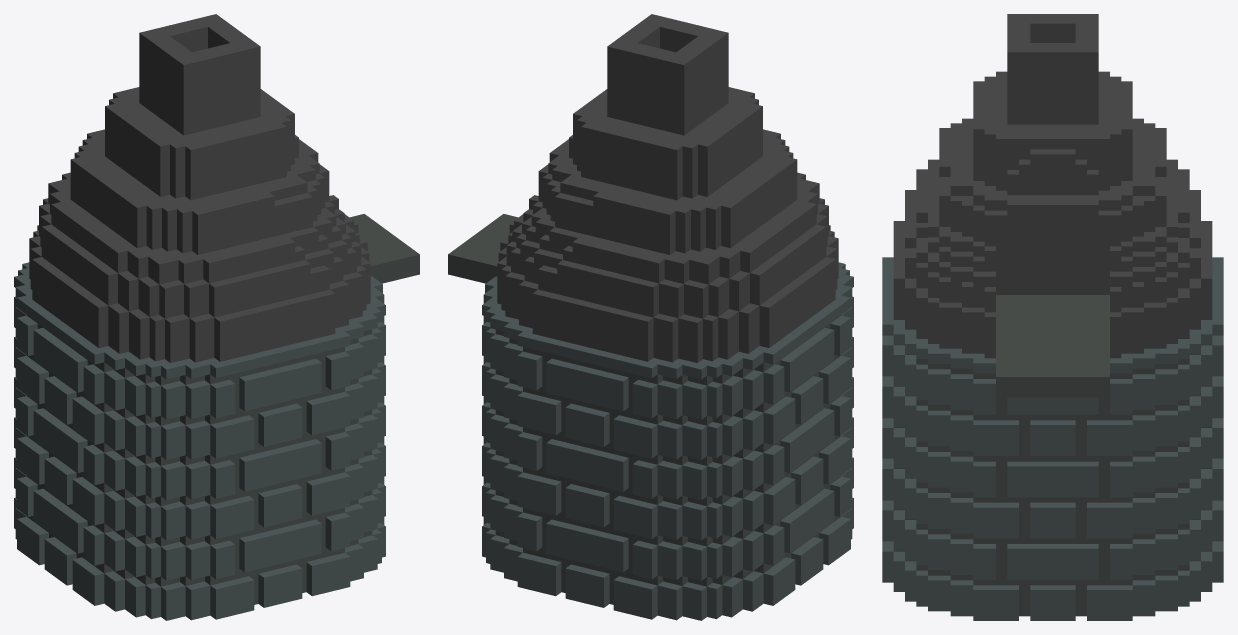
The model's file is Furnace.fbx.
The picture shows the model from 3 angles, left to right: view 1: azimuth 30°, elevation 25°; view 2: azimuth 150°, elevation 25°; view 3: azimuth 270°, elevation 25°; orthographic projection. The views are drawn at different scales.
Visible parts, largest first — view 1: Untitled; view 2: Untitled; view 3: Untitled.
Boxes of the visible parts, bbox=[...] form: Untitled: bbox=[14, 14, 419, 620]; Untitled: bbox=[448, 14, 853, 620]; Untitled: bbox=[882, 14, 1223, 620].
Size of the model in its own units: 0.7857 by 0.9167 by 1.31.
Materials: 1 (1 with a texture image).
